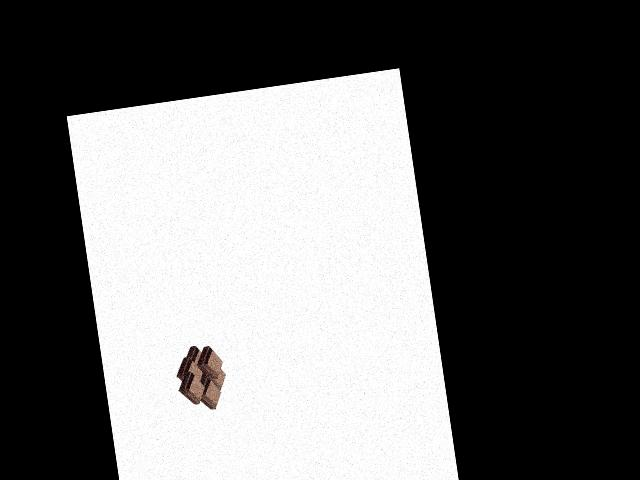chocolate: (174, 339, 232, 413)
